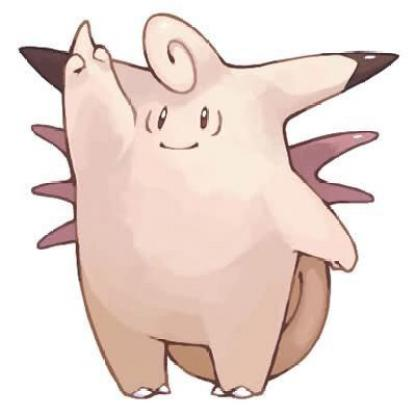Clefable: (15, 10, 388, 403)
